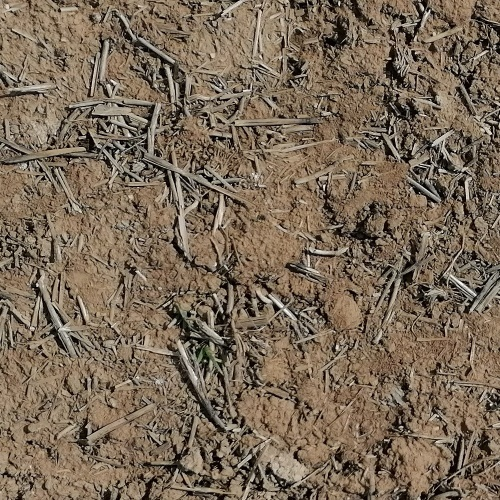beet: (195, 342, 225, 375)
